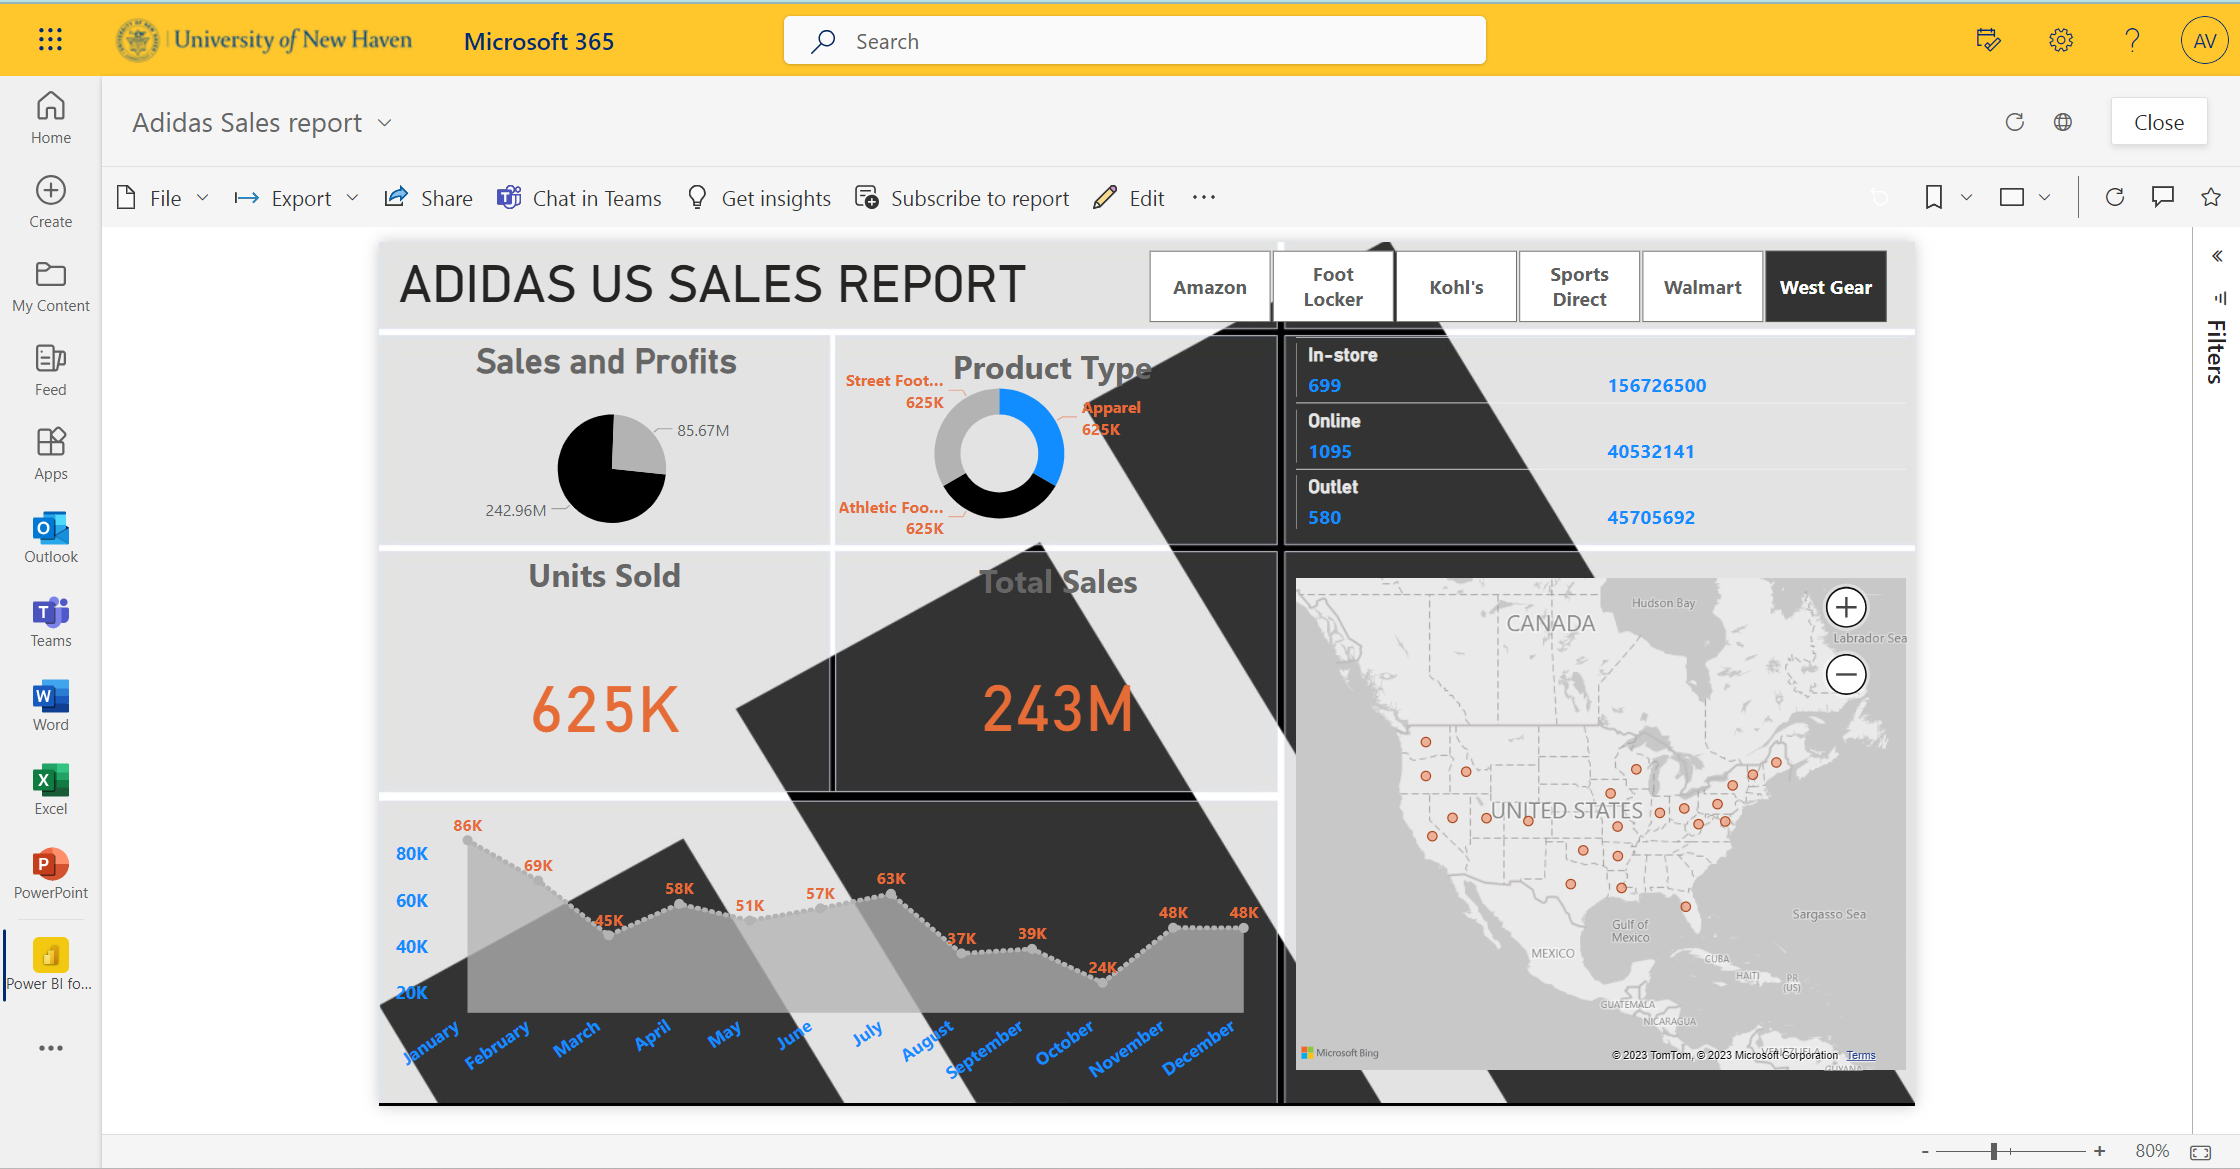

The dashboard page shown, as its layout file describes it:
{"tool":"powerbi","page":{"name":"Page 1","canvas":[1280,720],"ordinal":0},"visuals":[{"type":"slicer","fields":{"Values":["Productdetails.Retailer"]},"box":[616.2,0,663.8,73.8],"z":0},{"type":"card","fields":{"Values":["Sum(Data Sales Adidas.Total Sales)"]},"box":[384.6,309,360.7,144.1],"z":0,"group":"g2"},{"type":"donutChart","fields":{"Y":["Sum(Data Sales Adidas.Units Sold)"],"Category":["ProductdisDIM.Product Type"]},"box":[383.8,99.5,265.8,151.8],"z":1000,"group":"g4"},{"type":"stackedAreaChart","fields":{"Category":["Data Sales Adidas.Invoice Date.Variation.Date Hierarchy.Month"],"Y":["Sum(Data Sales Adidas.Units Sold)"]},"box":[0,460,748.8,260],"z":1000},{"type":"textbox","box":[11.2,3.8,605,70],"z":2000},{"type":"group","id":"g1","title":"Group 1","box":[3.8,77.5,380,173.8],"z":3000},{"type":"pieChart","title":"Sales and Operating Profit","fields":{"Y":["Sum(Data Sales Adidas.Total Sales)","Sum(Data Sales Adidas.Operating Profit)"]},"box":[3.8,126.5,380,124.7],"z":4000,"group":"g1"},{"type":"group","id":"g2","title":"Group 2","box":[383.8,258.8,362.5,195],"z":4000},{"type":"group","id":"g3","title":"Group 3","box":[0,253.8,375,199.7],"z":5000},{"type":"multiRowCard","fields":{"Values":["Productdetails.Sales Method","CountNonNull(Productdetails.Units Sold)","Sum(Productdetails.Total Sales)"]},"box":[758.8,73.8,518.8,177.5],"z":6000},{"type":"textbox","box":[7.5,77.5,364.3,47.5],"z":6000,"group":"g1"},{"type":"group","id":"g4","title":"Group 4","box":[383.8,79.4,355.3,171.9],"z":7000},{"type":"textbox","box":[384.1,79.4,355,56.2],"z":7000,"group":"g4"},{"type":"textbox","box":[383.8,258.8,364.6,60.4],"z":7000,"group":"g2"},{"type":"map","fields":{"Category":["RegionDIM.State"]},"box":[758.8,275,518.8,420],"z":8000},{"type":"card","fields":{"Values":["Sum(Data Sales Adidas.Units Sold)"]},"box":[0,310.2,375,143.4],"z":8000,"group":"g3"},{"type":"textbox","box":[5,253.8,366.2,61.2],"z":9000,"group":"g3"}]}

Visuals, with their boxes on the page's 1280x720 design canvas (x1, y1, x2, y2). These are canvas units, not pixel positions in the 2240x1169 screenshot, which may show the page scaled, cropped or inside an application window:
slicer - Productdetails.Retailer: {"x1": 616, "y1": 0, "x2": 1280, "y2": 74}
card - Sum(Data Sales Adidas.Total Sales): {"x1": 385, "y1": 309, "x2": 745, "y2": 453}
donutChart - Sum(Data Sales Adidas.Units Sold) x ProductdisDIM.Product Type: {"x1": 384, "y1": 100, "x2": 650, "y2": 251}
stackedAreaChart - Data Sales Adidas.Invoice Date.Variation.Date Hierarchy.Month x Sum(Data Sales Adidas.Units Sold): {"x1": 0, "y1": 460, "x2": 749, "y2": 720}
textbox: {"x1": 11, "y1": 4, "x2": 616, "y2": 74}
"Group 1" group: {"x1": 4, "y1": 78, "x2": 384, "y2": 251}
"Sales and Operating Profit" pieChart: {"x1": 4, "y1": 126, "x2": 384, "y2": 251}
"Group 2" group: {"x1": 384, "y1": 259, "x2": 746, "y2": 454}
"Group 3" group: {"x1": 0, "y1": 254, "x2": 375, "y2": 454}
multiRowCard - Productdetails.Sales Method x CountNonNull(Productdetails.Units Sold): {"x1": 759, "y1": 74, "x2": 1278, "y2": 251}
textbox: {"x1": 8, "y1": 78, "x2": 372, "y2": 125}
"Group 4" group: {"x1": 384, "y1": 79, "x2": 739, "y2": 251}
textbox: {"x1": 384, "y1": 79, "x2": 739, "y2": 136}
textbox: {"x1": 384, "y1": 259, "x2": 748, "y2": 319}
map - RegionDIM.State: {"x1": 759, "y1": 275, "x2": 1278, "y2": 695}
card - Sum(Data Sales Adidas.Units Sold): {"x1": 0, "y1": 310, "x2": 375, "y2": 454}
textbox: {"x1": 5, "y1": 254, "x2": 371, "y2": 315}
